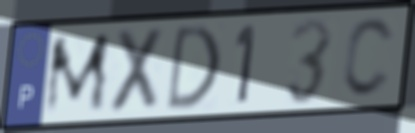1: (233, 22, 257, 107)
3: (283, 15, 340, 107)
C: (339, 15, 397, 101)
D: (163, 21, 224, 115)
M: (41, 30, 113, 118)
X: (106, 24, 168, 116)
